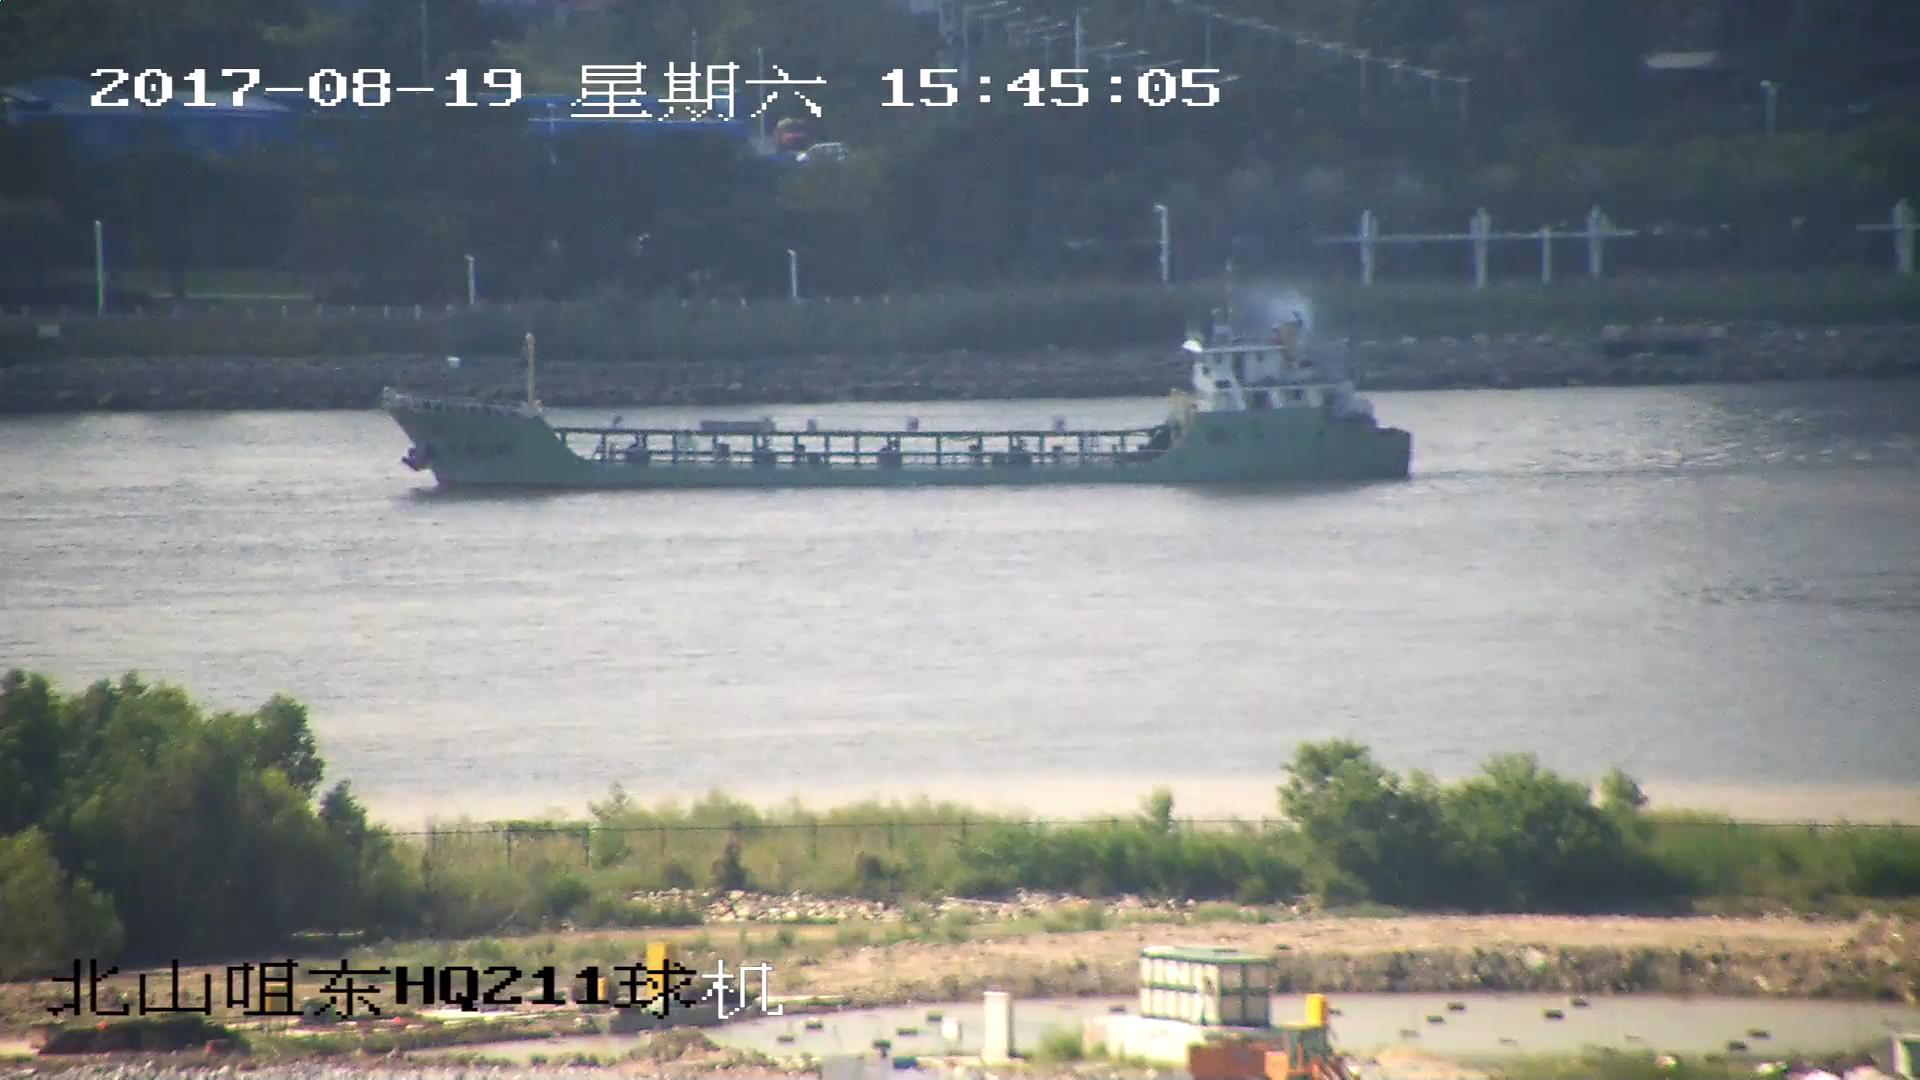Ship: (390, 270, 1415, 487)
